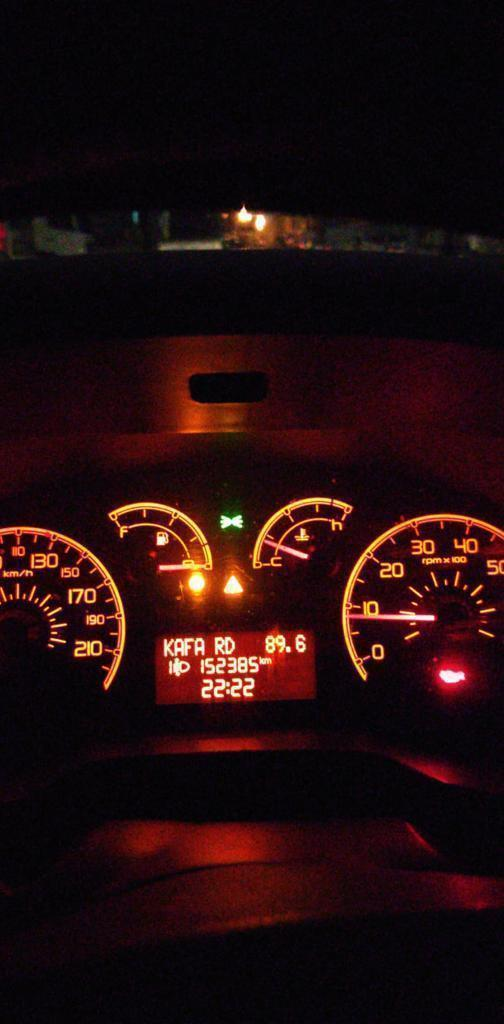,: (285, 644, 292, 653)
1: (199, 657, 205, 676), (167, 658, 172, 677)
2: (243, 676, 255, 697), (200, 678, 212, 698), (213, 677, 224, 698), (231, 677, 242, 697), (215, 657, 225, 673)
3: (227, 656, 237, 673)
5: (248, 655, 258, 672), (205, 657, 215, 674)
6: (294, 633, 308, 653)
8: (265, 634, 275, 654), (237, 656, 248, 673)
9: (275, 634, 285, 653)
X: (214, 635, 225, 656), (195, 636, 206, 656), (163, 636, 173, 657), (174, 638, 184, 657), (225, 636, 236, 653), (184, 637, 193, 656), (225, 679, 231, 697), (263, 657, 271, 665), (258, 655, 263, 665)
odometer: (153, 629, 319, 704)
